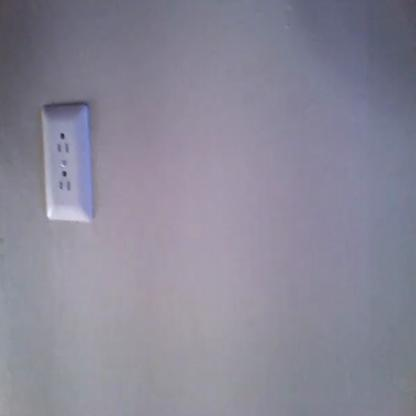OUTLET: (40, 105, 92, 221)
